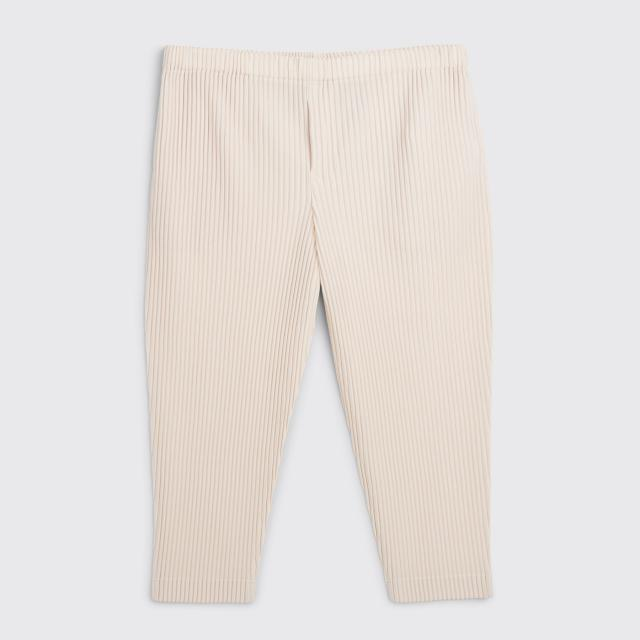long-pants: (143, 43, 495, 607)
